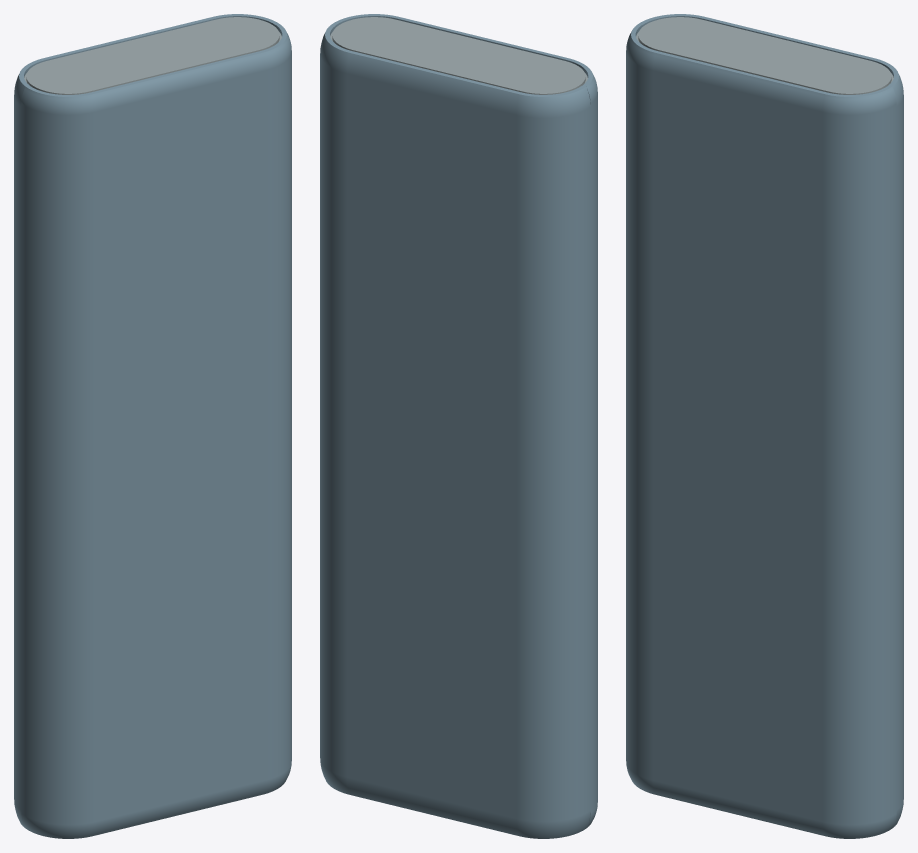
The model's file is AnkerPowerCore20100.glb.
The picture shows the model from 3 angles, left to right: view 1: azimuth 30°, elevation 25°; view 2: azimuth 150°, elevation 25°; view 3: azimuth 330°, elevation 25°; orthographic projection.
Parts seen in each view (by area): view 1: 004707_A;2-Case20100_top, 004706_A;2-Case20100_btm; view 2: 004706_A;2-Case20100_btm, 004707_A;2-Case20100_top; view 3: 004707_A;2-Case20100_top, 004706_A;2-Case20100_btm.
Boxes of the visible parts, left/top/right/bottom form: 004707_A;2-Case20100_top: left=21, top=24, right=291, bottom=838; 004706_A;2-Case20100_btm: left=14, top=14, right=281, bottom=827; 004706_A;2-Case20100_btm: left=320, top=17, right=590, bottom=838; 004707_A;2-Case20100_top: left=332, top=14, right=597, bottom=827; 004707_A;2-Case20100_top: left=626, top=24, right=896, bottom=838; 004706_A;2-Case20100_btm: left=636, top=14, right=903, bottom=827.
Size of the model in its own units: 0.0623 by 0.1678 by 0.0222.
